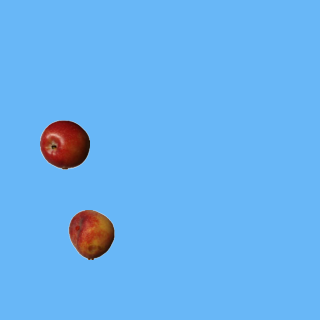Apple Braeburn: (39, 119, 89, 169)
Peach: (66, 209, 116, 259)
